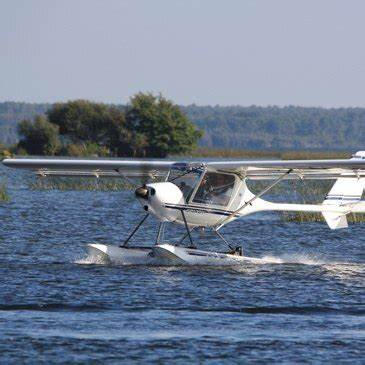Aeronef_de_loisir: (1, 140, 365, 296)
